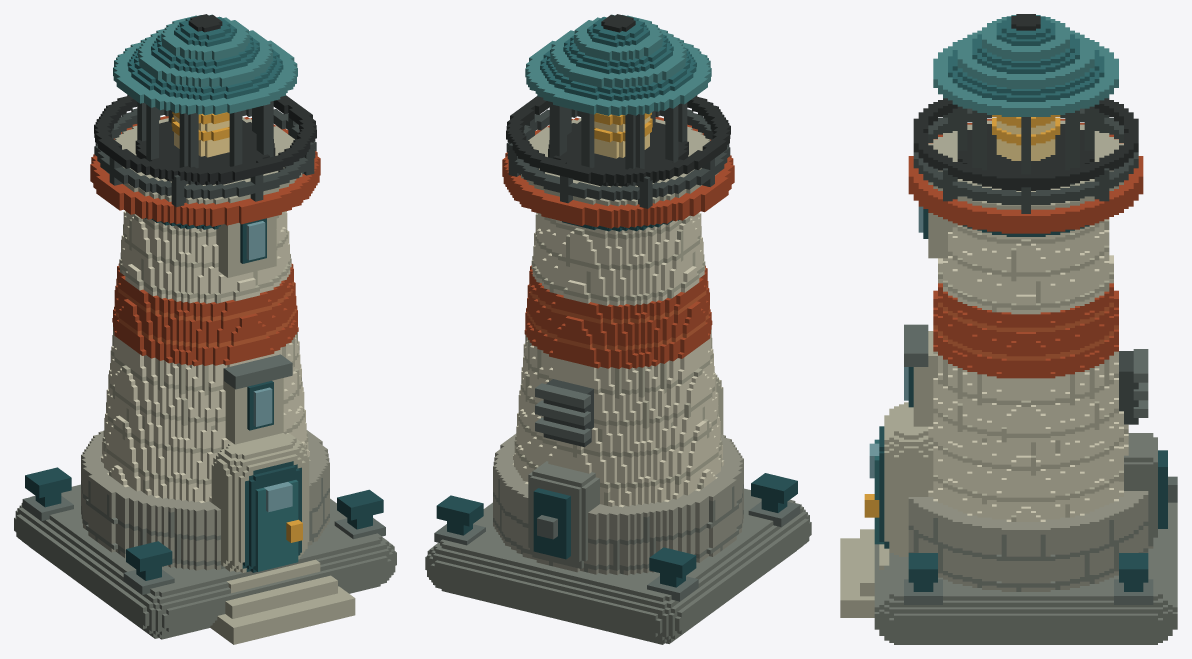
File: lighthouse.glb
3 views of the same model, side by side, from view 1: azimuth 30°, elevation 25°; view 2: azimuth 150°, elevation 25°; view 3: azimuth 270°, elevation 25° (orthographic). The views are drawn at different scales.
Parts seen in each view (by area): view 1: lighthouse; view 2: lighthouse; view 3: lighthouse.
Boxes of the visible parts, bbox=[...] form: lighthouse: bbox=[14, 14, 396, 644]; lighthouse: bbox=[425, 14, 811, 644]; lighthouse: bbox=[840, 14, 1177, 644].
Size of the model in its own units: 4.65 by 9.6 by 5.17.
